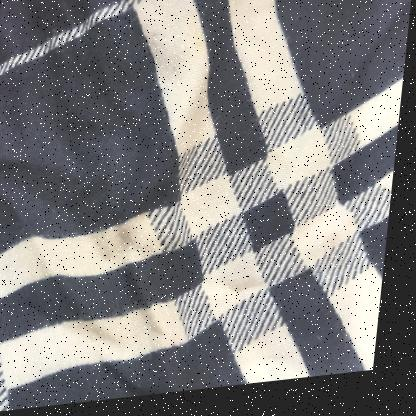spot: (97, 181, 186, 272)
